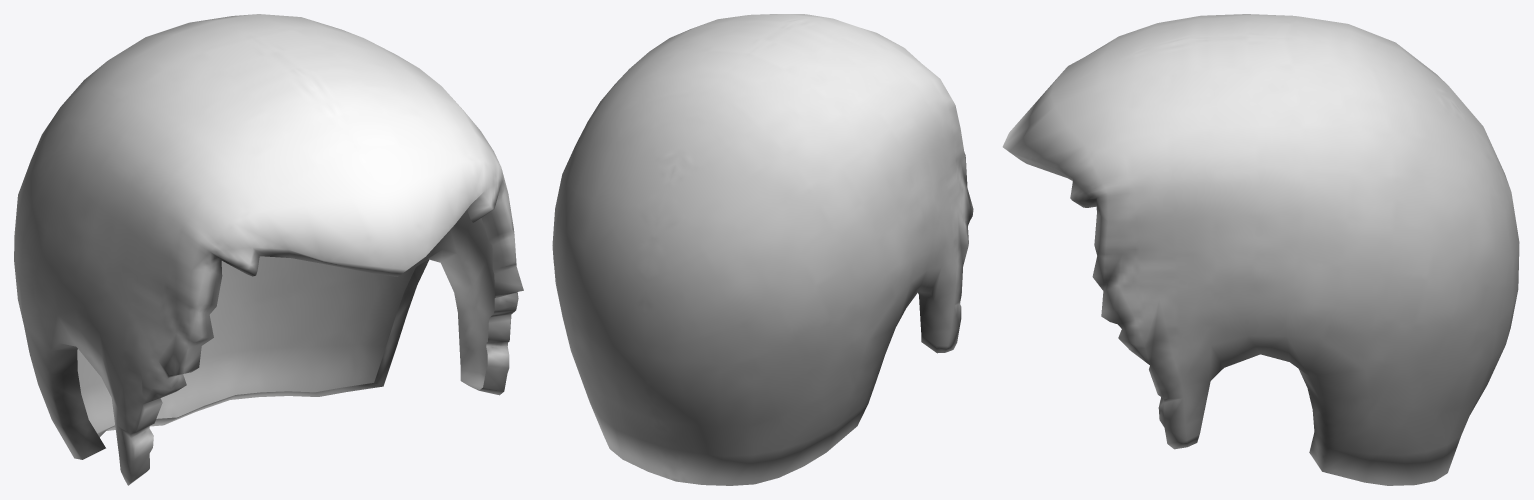
File: hair_buzzed.glb
The picture shows the model from 3 angles, left to right: view 1: azimuth 30°, elevation 25°; view 2: azimuth 150°, elevation 25°; view 3: azimuth 270°, elevation 25°; orthographic projection. The views are drawn at different scales.
Visible parts, largest first — view 1: Hair_Buzzed; view 2: Hair_Buzzed; view 3: Hair_Buzzed.
Boxes of the visible parts, x1,y1,x2,y2 form: Hair_Buzzed: [14, 14, 523, 485]; Hair_Buzzed: [552, 14, 973, 485]; Hair_Buzzed: [1002, 14, 1519, 485].
Bounding box in the file's own units: 0.1546 × 0.1694 × 0.1909.
Materials: 1 (1 with a texture image).
